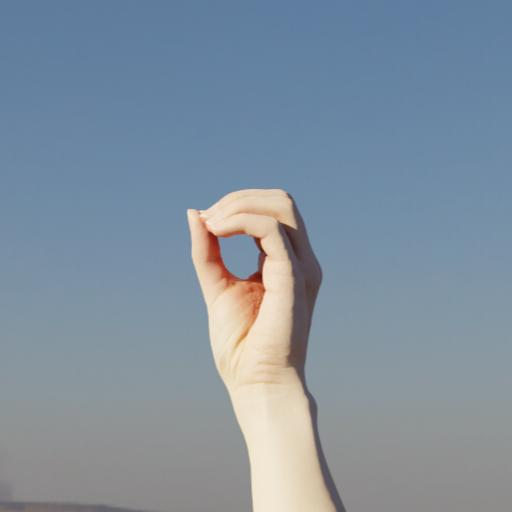O: (174, 178, 344, 450)
